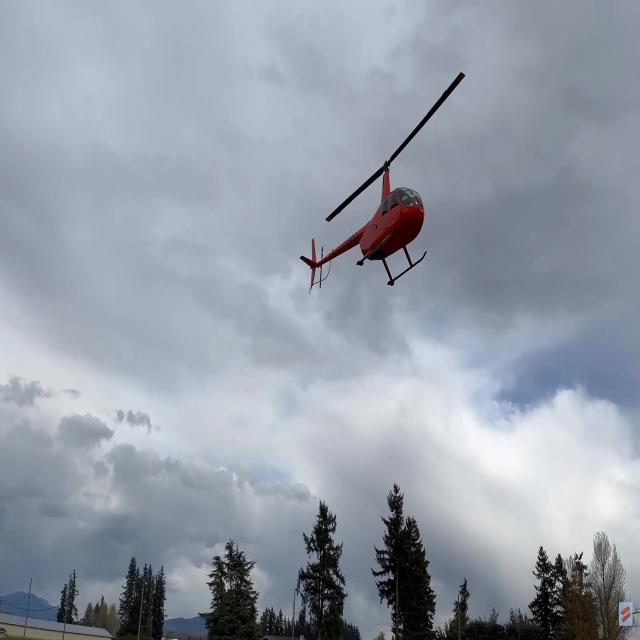CIV_HELO: (299, 157, 426, 296)
